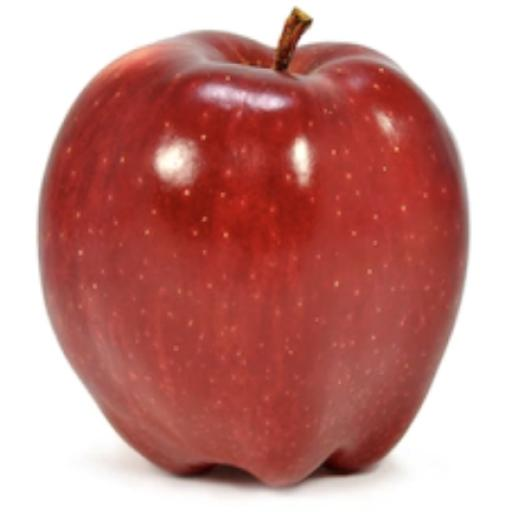apple: (40, 11, 468, 485)
